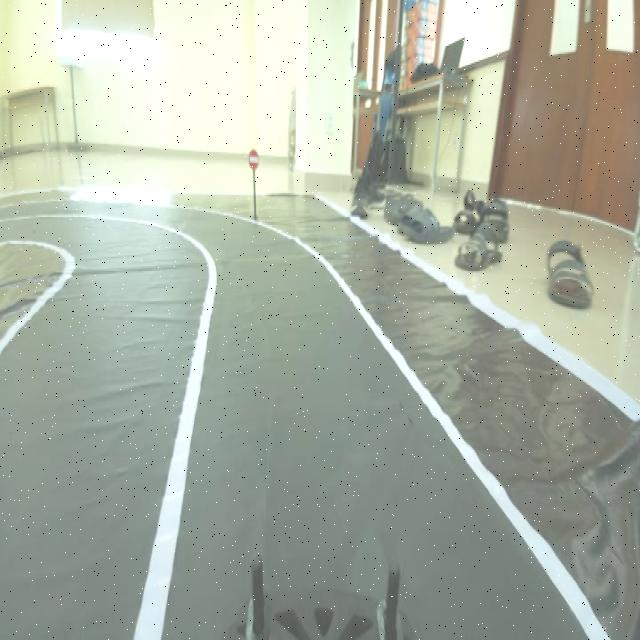no_entry: (248, 150, 260, 174)
